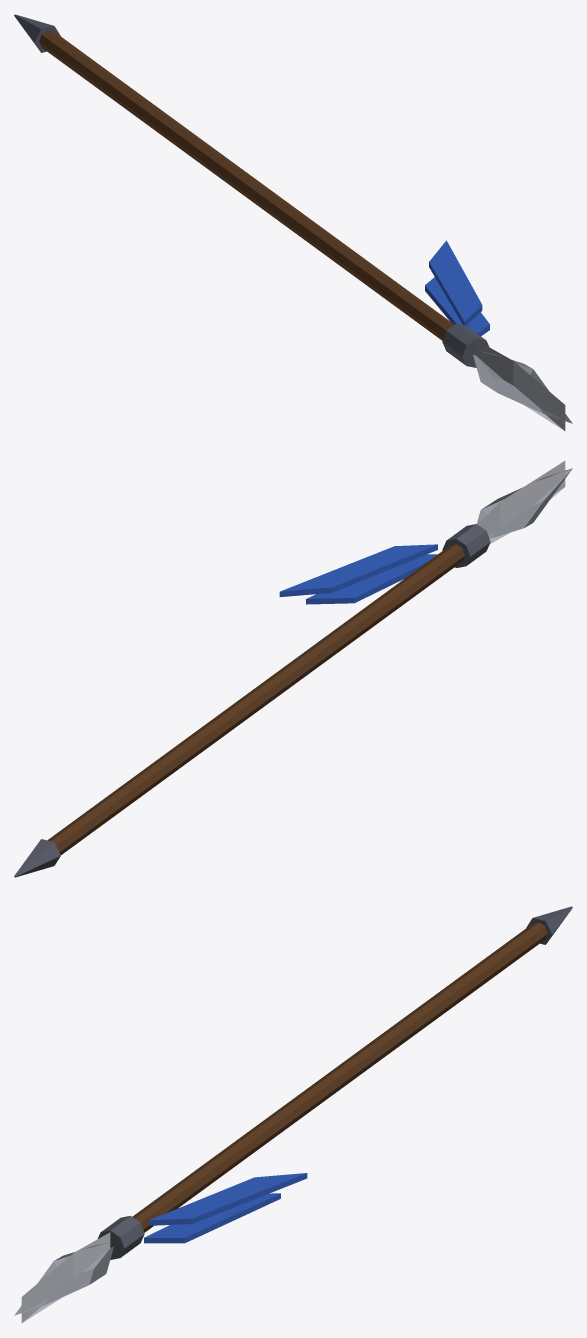
The model's file is 10_Spear.glb.
3 views of the same model, one above another, from view 1: azimuth 30°, elevation 25°; view 2: azimuth 150°, elevation 25°; view 3: azimuth 330°, elevation 25° (orthographic).
Parts seen in each view (by area): view 1: 10_Spear; view 2: 10_Spear; view 3: 10_Spear.
Boxes of the visible parts, bbox=[...] form: 10_Spear: bbox=[14, 14, 572, 430]; 10_Spear: bbox=[14, 461, 572, 877]; 10_Spear: bbox=[14, 906, 572, 1322].
Bounding box in the file's own units: 0.25 × 0.064 × 2.2.
